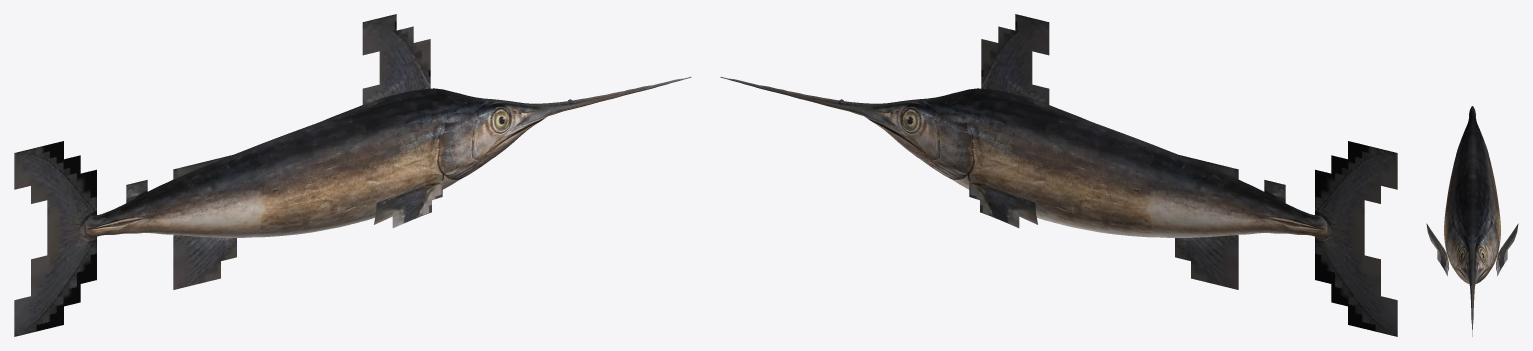
The model's file is real-xiphias_gladius.glb.
The picture shows the model from 3 angles, left to right: view 1: azimuth 30°, elevation 25°; view 2: azimuth 150°, elevation 25°; view 3: azimuth 270°, elevation 25°; orthographic projection. The views are drawn at different scales.
Visible parts, largest first — view 1: xiphias_gladius; view 2: xiphias_gladius; view 3: xiphias_gladius.
Part boxes in pixels (box(x1,y1,x2,y2)): xiphias_gladius: box(14, 14, 691, 336); xiphias_gladius: box(720, 14, 1397, 336); xiphias_gladius: box(1426, 106, 1518, 336).
Bounding box in the file's own units: 3 × 0.974 × 0.4605.
1 material, 1 textured.
